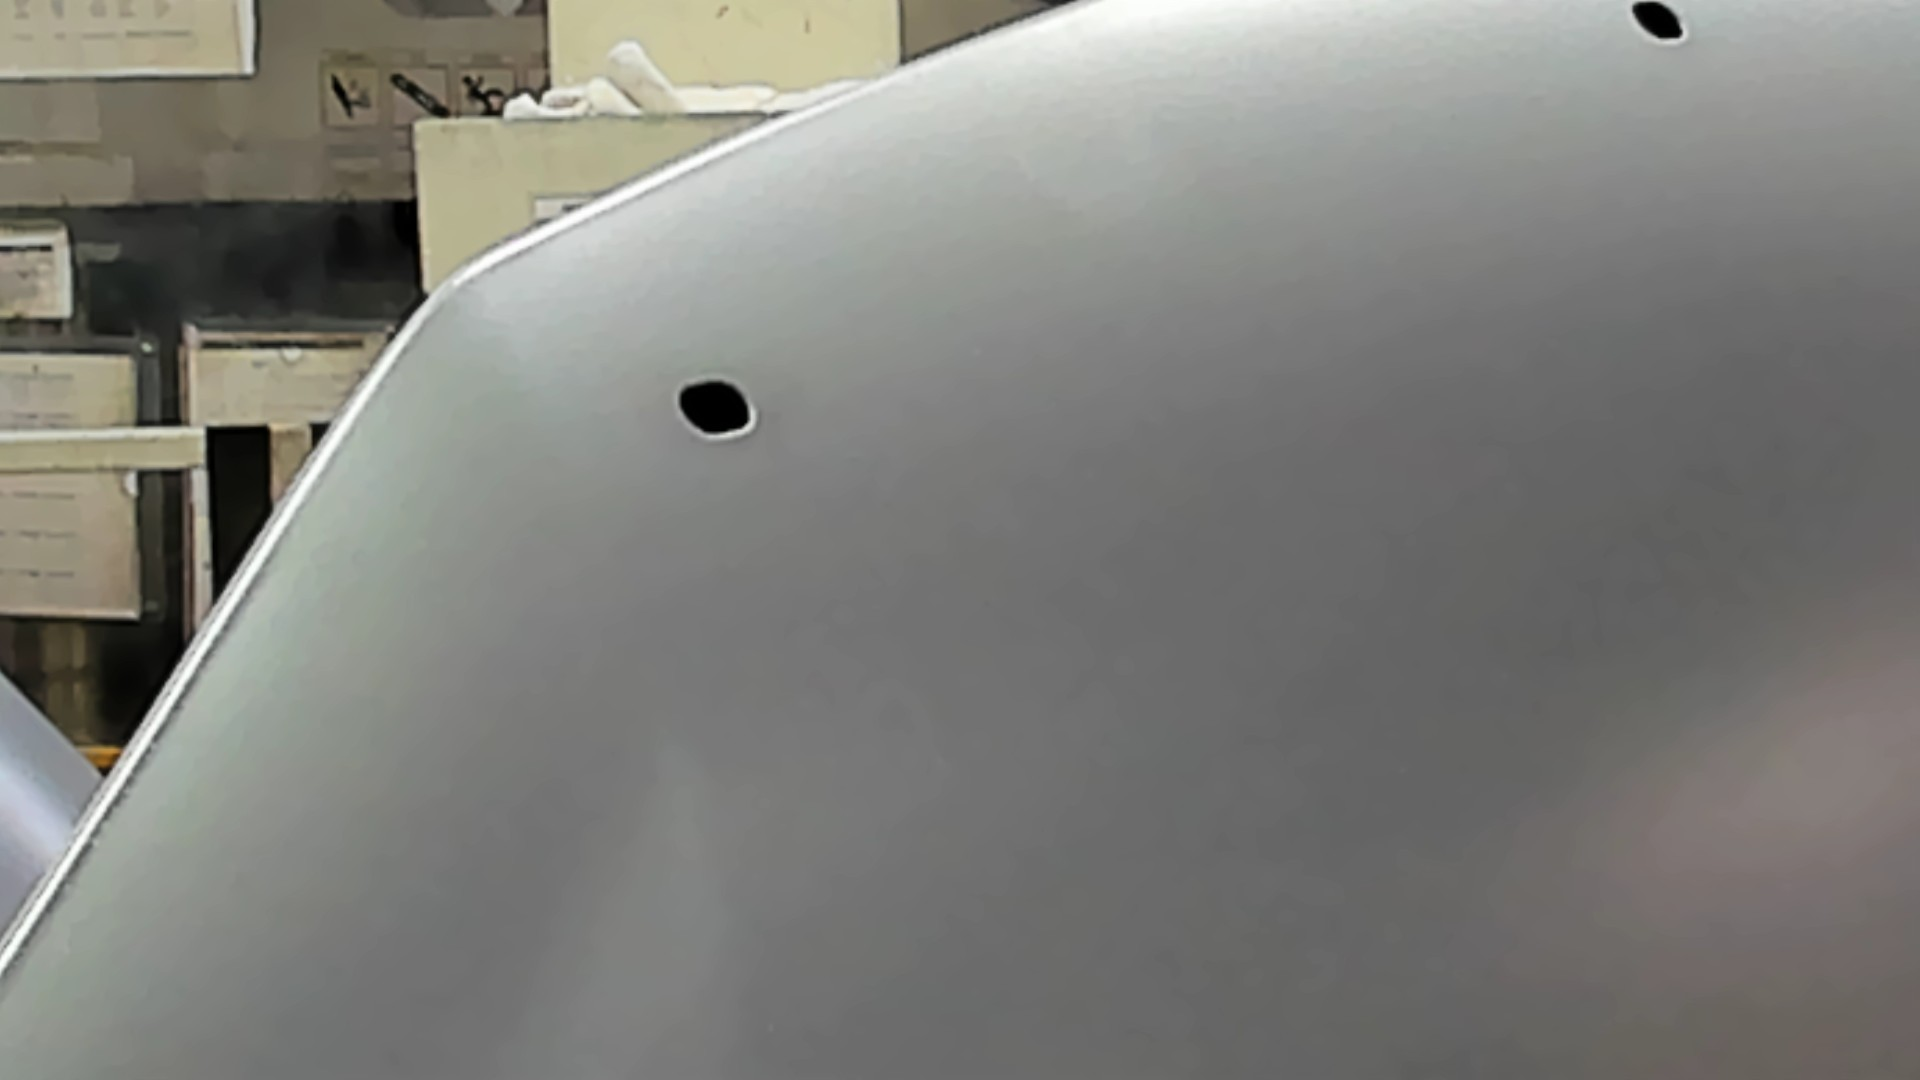amorfo: (670, 372, 760, 442), (1619, 1, 1698, 50)
